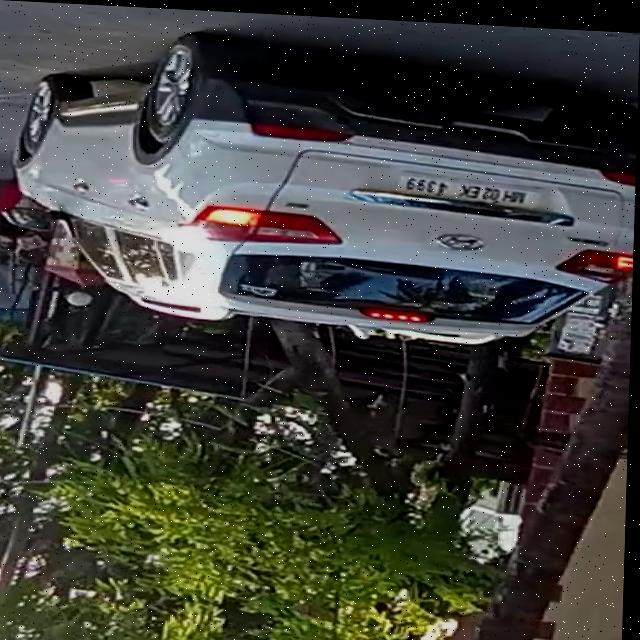plate: (400, 168, 540, 203)
